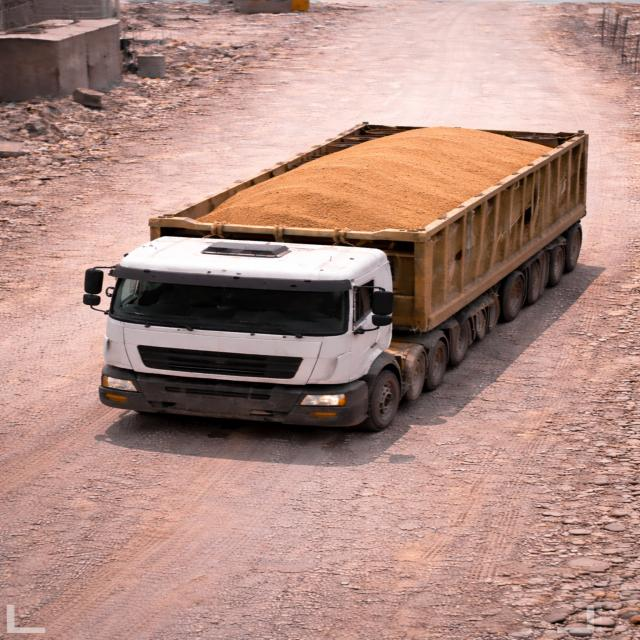trailer: (138, 128, 588, 238)
truck: (73, 116, 614, 426)
